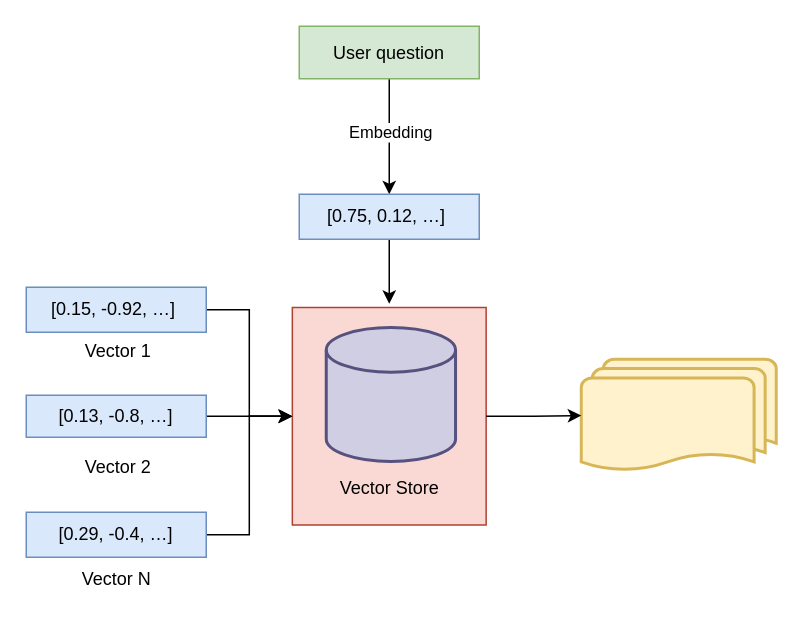
This 804x629 diagram has some shape labels left out. The centre of each missing label's shape, as x and y in pixels:
Top K Retrieved Chunks: the point at 678,414
Vector Embeddings: the point at 390,393
